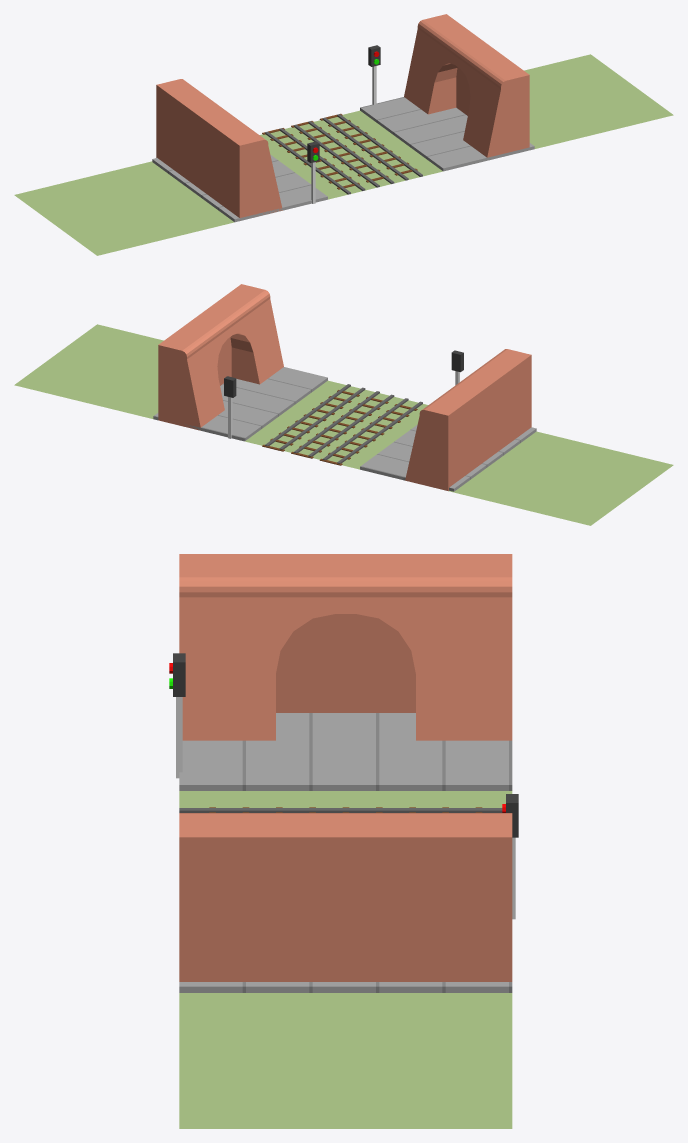
The model's file is Chao.fbx.
The picture shows the model from 3 angles, top to bottom: view 1: azimuth 30°, elevation 25°; view 2: azimuth 150°, elevation 25°; view 3: azimuth 270°, elevation 25°; orthographic projection. The views are drawn at different scales.
Parts seen in each view (by area): view 1: Chao, Parede, Calcada, Trilho-Direita, Trilho-Meio, Trilho-Esquerda, Semaforo.001, Semaforo; view 2: Chao, Parede, Calcada, Trilho-Esquerda, Trilho-Direita, Trilho-Meio, Semaforo; view 3: Parede, Chao, Calcada, Trilho-Esquerda, Semaforo.001.
Boxes of the visible parts, box(x1,y1,x2,y2) form: Chao: box(14, 54, 673, 255); Parede: box(156, 14, 529, 217); Calcada: box(152, 97, 534, 222); Trilho-Direita: box(319, 113, 422, 180); Trilho-Meio: box(291, 121, 394, 187); Trilho-Esquerda: box(262, 128, 365, 194); Semaforo.001: box(307, 141, 319, 203); Semaforo: box(368, 45, 380, 104); Chao: box(14, 324, 673, 525); Parede: box(158, 284, 531, 490); Calcada: box(153, 367, 536, 491); Trilho-Esquerda: box(319, 398, 422, 465); Trilho-Direita: box(262, 384, 365, 451); Trilho-Meio: box(291, 391, 394, 458); Semaforo: box(224, 376, 236, 438); Parede: box(179, 554, 512, 981); Chao: box(179, 791, 512, 1128); Calcada: box(179, 713, 512, 992); Trilho-Esquerda: box(179, 807, 502, 812); Semaforo.001: box(169, 653, 185, 778).
Bounding box in the file's own units: 4000 × 500 × 1050.
